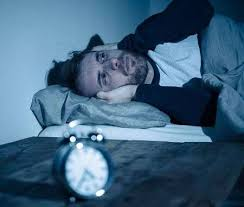white_male: (80, 50, 149, 90)
